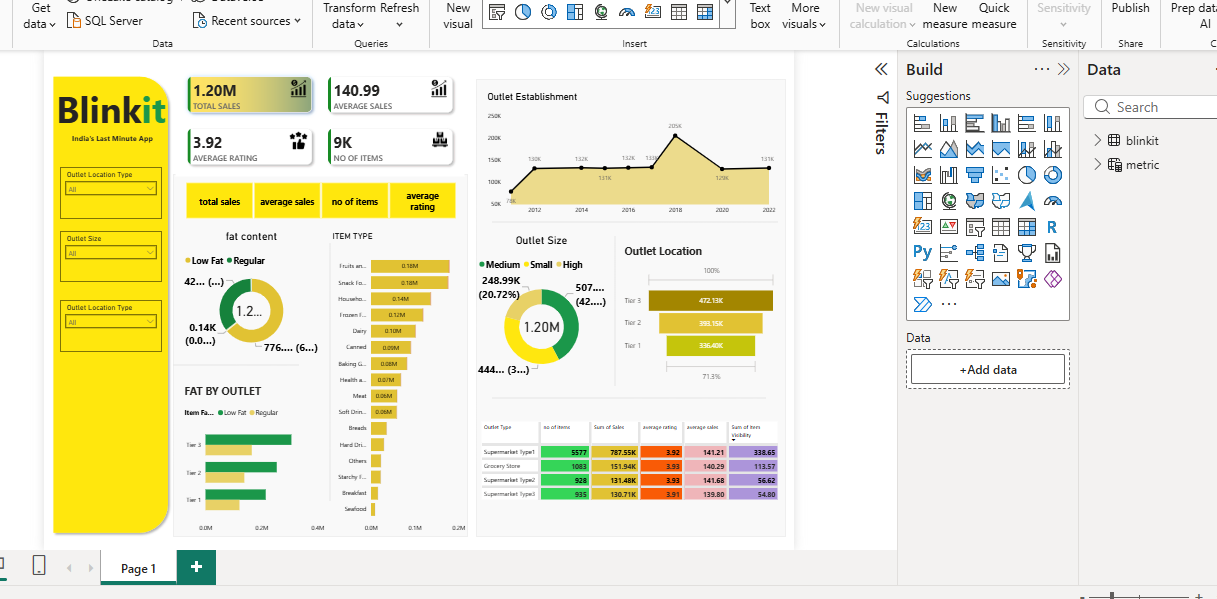

What the dashboard file says about the page in this screenshot:
{"tool":"powerbi","page":{"name":"Page 1","canvas":[1500,1000],"ordinal":0},"visuals":[{"type":"shape","box":[10.5,44.3,246.8,930.4],"z":0},{"type":"textbox","box":[10,62,248,112],"z":1000},{"type":"shape","box":[258,248,590,726],"z":2000},{"type":"donutChart","title":" fat content","fields":{"Y":["blinkit.total sales","blinkit.average sales","blinkit.no of items","blinkit.average rating"],"Category":["blinkit.Item Fat Content"]},"box":[276,360,278,252],"z":3000},{"type":"slicer","fields":{"Values":["metric.metric"]},"box":[258,258,590,86],"z":4000},{"type":"clusteredBarChart","title":"FAT BY OUTLET","fields":{"Y":["blinkit.total sales"],"Category":["blinkit.Outlet Location Type"],"Series":["blinkit.Item Fat Content"]},"box":[276,666,290,308],"z":5000},{"type":"barChart","title":"ITEM TYPE","fields":{"Y":["blinkit.total sales","blinkit.average sales","blinkit.no of items","blinkit.average rating"],"Category":["blinkit.Item Type"]},"box":[572,362,276,612],"z":6000},{"type":"shape","box":[258,522,252,216],"z":7000},{"type":"shape","box":[864,58,620,916],"z":8000},{"type":"lineChart","title":" Outlet Establishment ","fields":{"Category":["blinkit.Outlet Establishment Year"],"Y":["blinkit.total sales"]},"box":[882,82,586,256],"z":9000},{"type":"donutChart","title":" Outlet Size","fields":{"Y":["Sum(blinkit.Sales)"],"Category":["blinkit.Outlet Size"]},"box":[864,368,262,300],"z":10000},{"type":"funnel","title":"Outlet Location ","fields":{"Y":["Sum(blinkit.Sales)"],"Category":["blinkit.Outlet Location Type"]},"box":[1156,386,312,282],"z":11000},{"type":"pivotTable","fields":{"Rows":["blinkit.Outlet Type"],"Values":["blinkit.no of items","Sum(blinkit.Sales)","blinkit.average rating","blinkit.average sales","Sum(blinkit.Item Visibility)"]},"box":[870,738,614,182],"z":12000},{"type":"slicer","fields":{"Values":["blinkit.Outlet Location Type"]},"box":[32,234,204,104],"z":13000},{"type":"slicer","fields":{"Values":["blinkit.Outlet Size"]},"box":[32,362,204,102],"z":14000},{"type":"slicer","fields":{"Values":["blinkit.Outlet Location Type"]},"box":[32,500,204,104],"z":15000},{"type":"shape","box":[510,386,124,516],"z":16000},{"type":"shape","box":[896,194,572,300],"z":17000},{"type":"shape","box":[896,630,548,132],"z":18000},{"type":"textbox","box":[32,160,204,50],"z":19000},{"type":"cardVisual","fields":{"Data":["blinkit.total sales","blinkit.average sales","blinkit.average rating","blinkit.no of items"]},"box":[257.4,23.2,588.6,234.2],"z":20000},{"type":"shape","box":[992,372,300,300],"z":21000}]}

Visuals, with their boxes on the page's 1500x1000 design canvas (x1, y1, x2, y2). These are canvas units, not pixel positions in the 1217x599 screenshot, which may show the page scaled, cropped or inside an application window:
shape: 10,44,257,975
textbox: 10,62,258,174
shape: 258,248,848,974
" fat content" donutChart: 276,360,554,612
slicer - metric.metric: 258,258,848,344
"FAT BY OUTLET" clusteredBarChart: 276,666,566,974
"ITEM TYPE" barChart: 572,362,848,974
shape: 258,522,510,738
shape: 864,58,1484,974
" Outlet Establishment " lineChart: 882,82,1468,338
" Outlet Size" donutChart: 864,368,1126,668
"Outlet Location " funnel: 1156,386,1468,668
pivotTable - blinkit.Outlet Type x blinkit.no of items: 870,738,1484,920
slicer - blinkit.Outlet Location Type: 32,234,236,338
slicer - blinkit.Outlet Size: 32,362,236,464
slicer - blinkit.Outlet Location Type: 32,500,236,604
shape: 510,386,634,902
shape: 896,194,1468,494
shape: 896,630,1444,762
textbox: 32,160,236,210
cardVisual - blinkit.total sales x blinkit.average sales: 257,23,846,257
shape: 992,372,1292,672
